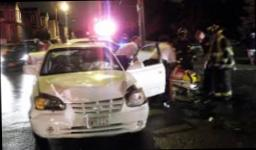Bonnet: (38, 69, 145, 103)
Bumper: (33, 110, 77, 139)
Light: (123, 86, 151, 112), (33, 93, 66, 114)
